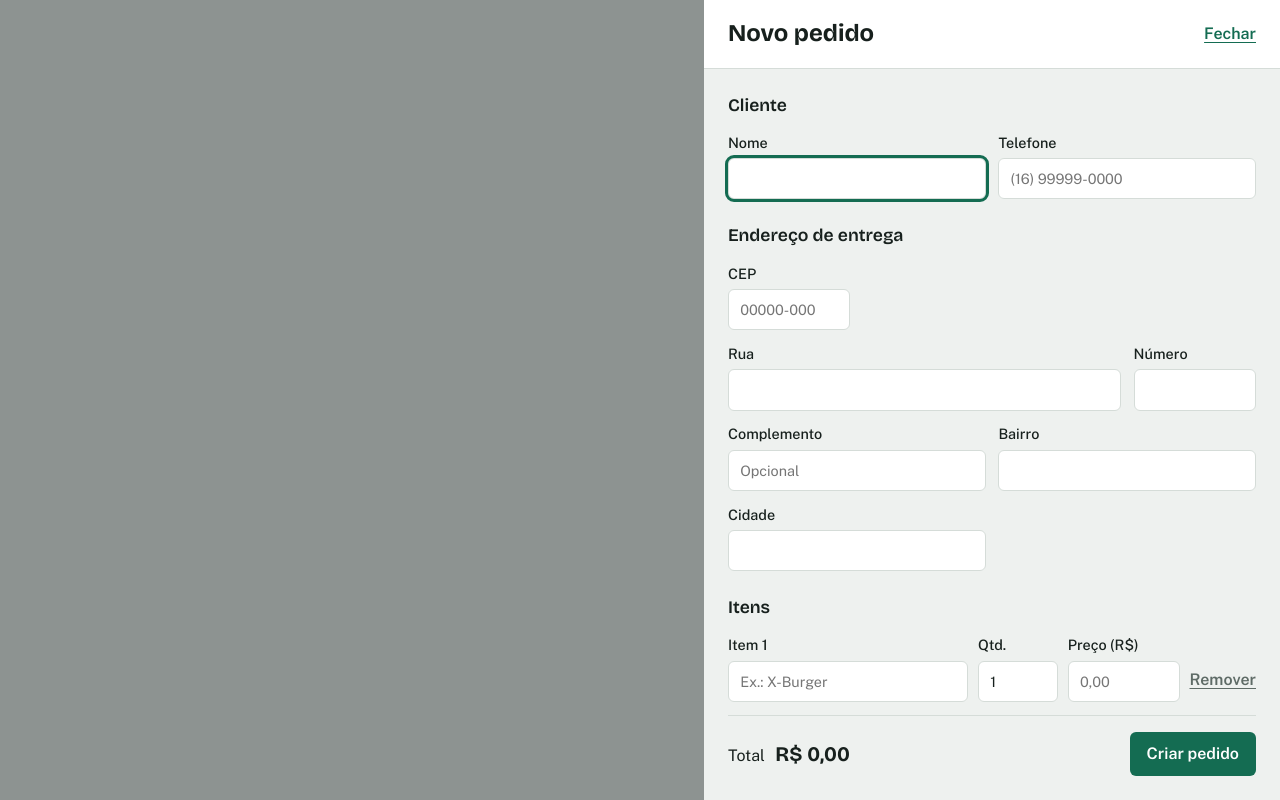
NewOrderPanel › preenche rua, bairro e cidade a partir do CEP e leva para o campo Número
This screenshot has width=1280, height=800.
Type "14400120" into the field labelled "CEP" at (789, 310), box [728, 289, 850, 330]
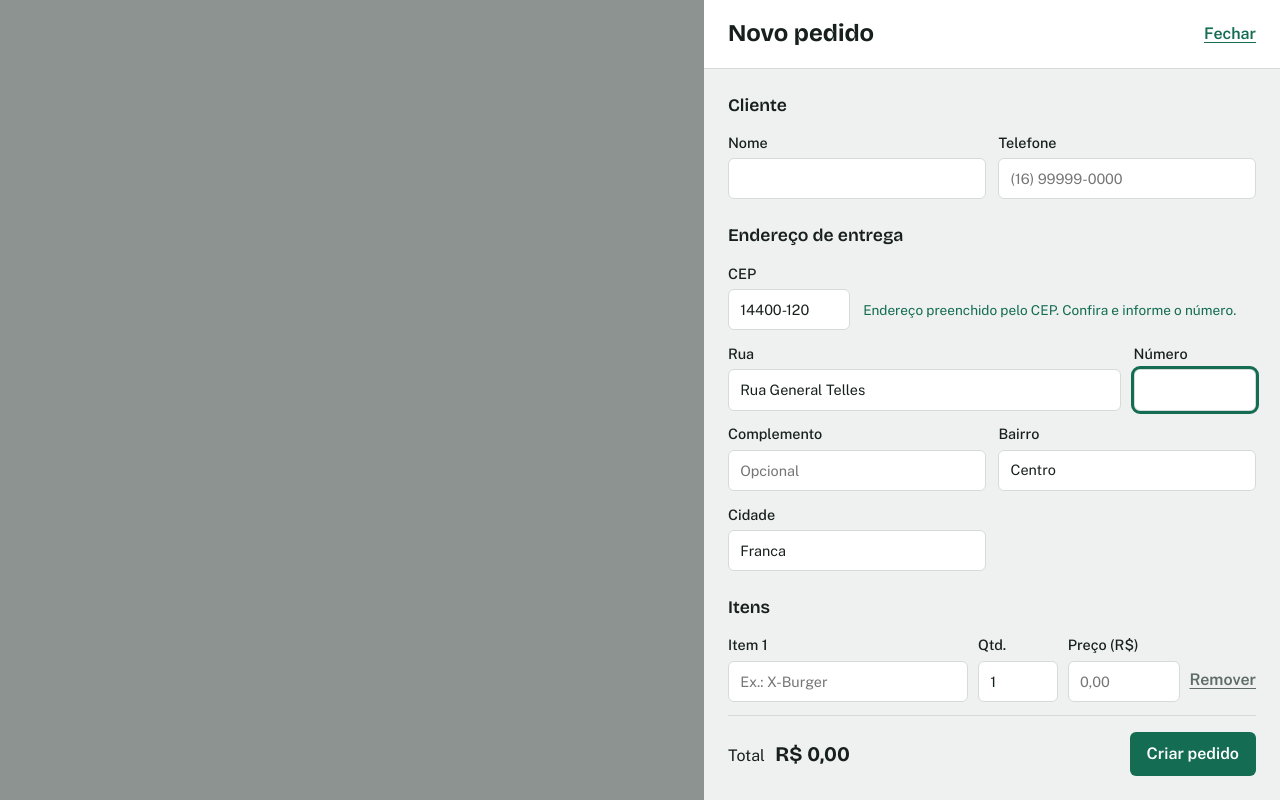
Check: the field labelled "CEP" holds "14400-120", box [728, 289, 850, 330]
Check: the field labelled "Rua" holds "Rua General Telles", box [728, 369, 1121, 410]
Check: the field labelled "Bairro" holds "Centro", box [998, 450, 1256, 491]
